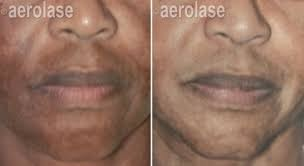Melasma: (0, 35, 146, 166)
